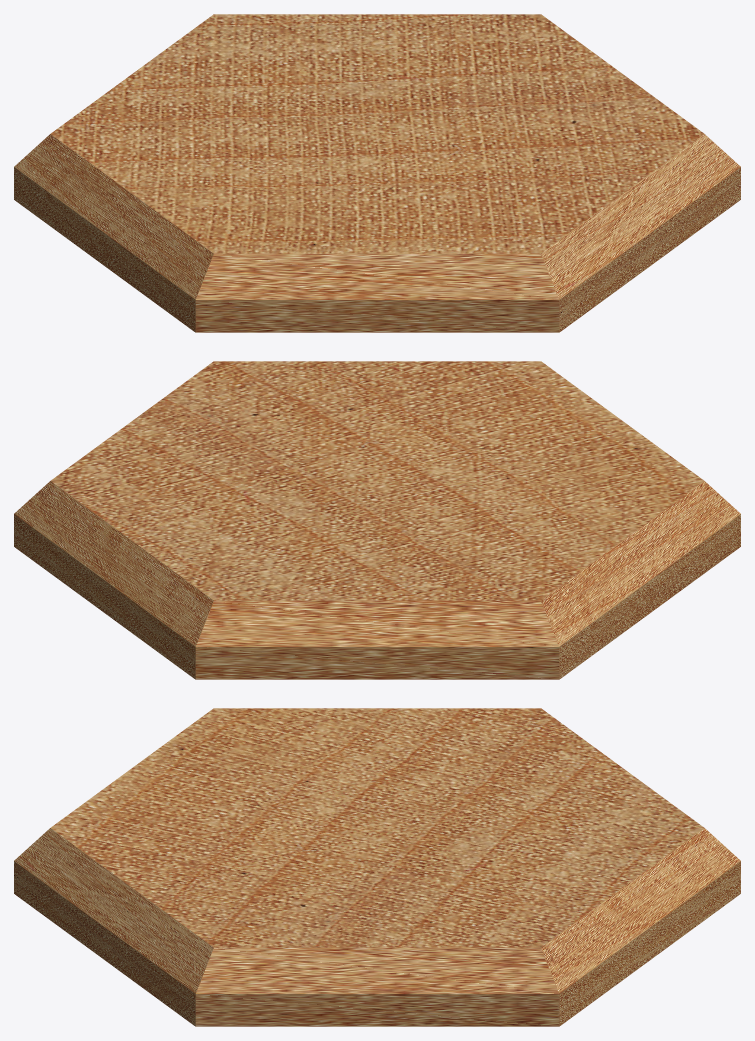
Rendered from Hexagon.FBX.
3 views of the same model, one above another, from view 1: azimuth 30°, elevation 25°; view 2: azimuth 150°, elevation 25°; view 3: azimuth 270°, elevation 25° (orthographic).
Visible parts, largest first — view 1: Hexagon; view 2: Hexagon; view 3: Hexagon.
Part boxes in pixels (bbox=[...]): Hexagon: bbox=[14, 14, 740, 332]; Hexagon: bbox=[14, 361, 740, 679]; Hexagon: bbox=[14, 708, 740, 1026].
Size of the model in its own units: 17.32 by 20 by 2.
